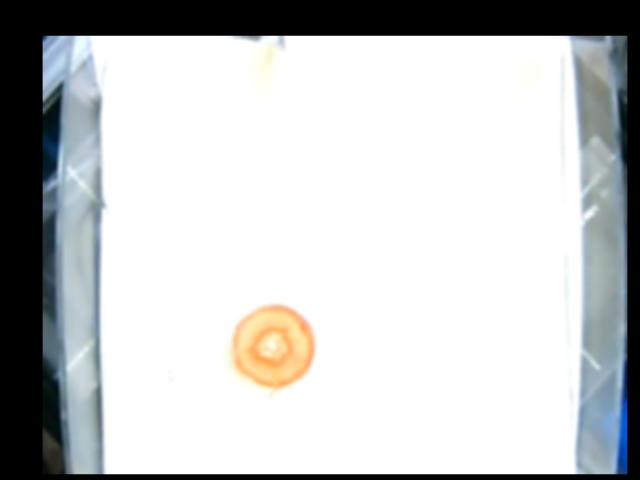Carrot: (229, 304, 315, 386)
